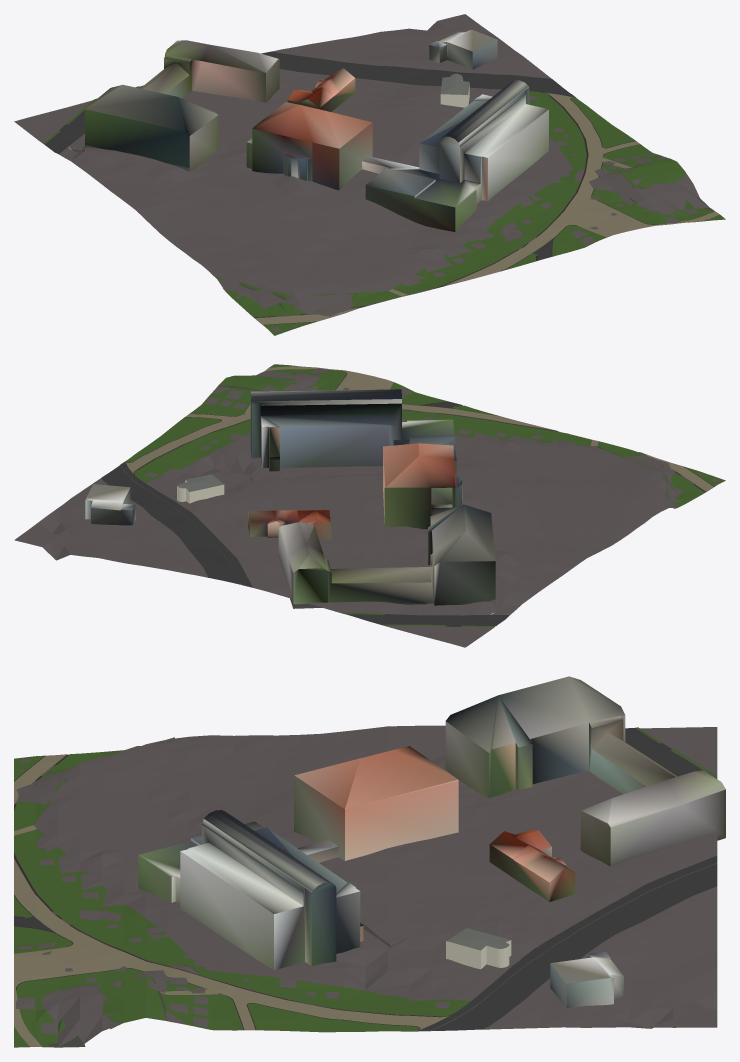
3 views of the same model, one above another, from view 1: azimuth 30°, elevation 25°; view 2: azimuth 150°, elevation 25°; view 3: azimuth 270°, elevation 25° (orthographic). The views are drawn at different scales.
Visible parts, largest first — view 1: c_p03_p11; view 2: c_p03_p11; view 3: c_p03_p11.
Part boxes in pixels (x1,y1,x2,y2): c_p03_p11: (14, 14, 725, 335); c_p03_p11: (14, 364, 725, 647); c_p03_p11: (14, 676, 725, 1047).
Size of the model in its own units: 128 by 23.75 by 130.
